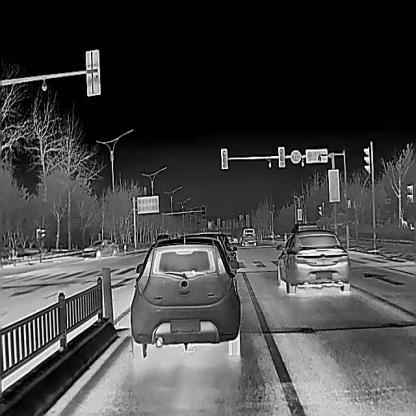car: (129, 240, 241, 357), (275, 229, 350, 293), (176, 234, 238, 292), (80, 238, 119, 258), (289, 222, 319, 232), (241, 228, 256, 246), (155, 233, 170, 242), (226, 234, 232, 243)
